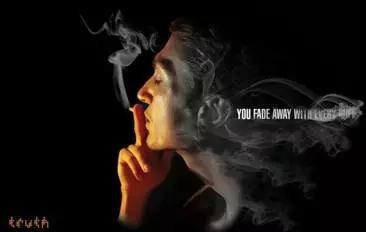smoking: (123, 103, 149, 125)
